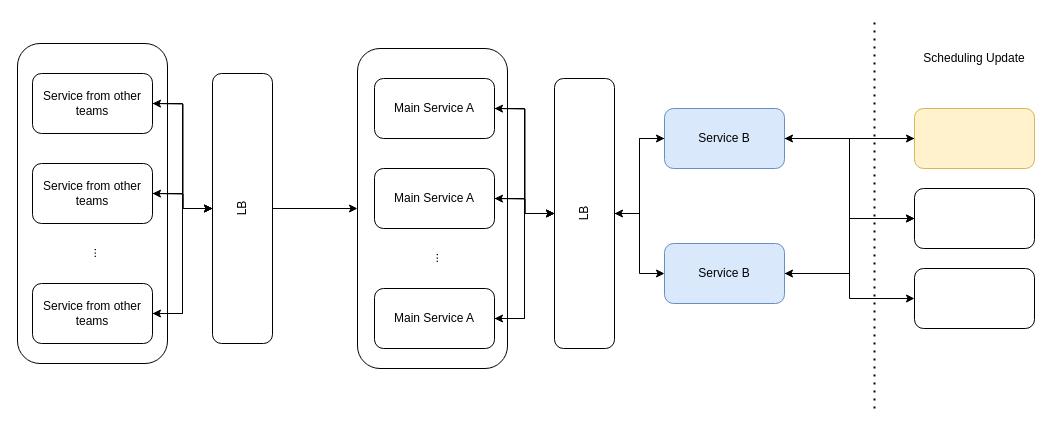
Image size: 1052x427. Some labels were removed from this diagram. The shapes that lost their labels are listed below. From the top down, each one's centre as x and y in pixels, then its label:
(x=974, y=138): AWS S3
(x=974, y=218): Yahoo Grid (HDFS)
(x=974, y=298): Vespa (cloud search engine hosted in Yahoo)
